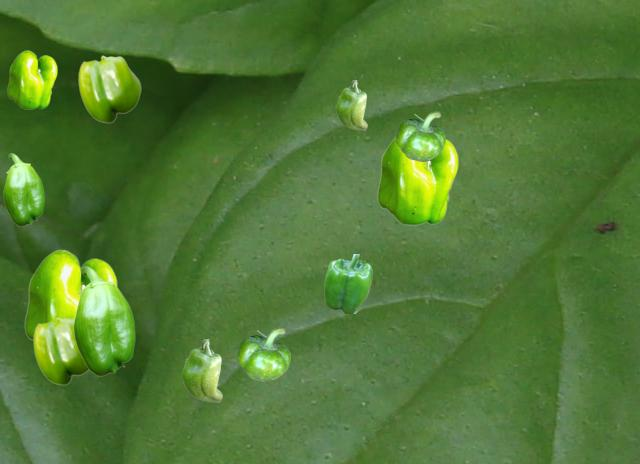bell_pepper: (24, 249, 116, 340), (377, 136, 457, 224), (73, 266, 134, 375), (78, 55, 140, 122), (33, 317, 88, 384), (3, 153, 43, 225), (7, 50, 56, 108), (237, 327, 289, 380), (324, 254, 371, 312), (182, 339, 221, 401), (396, 111, 444, 160), (336, 80, 366, 129)
